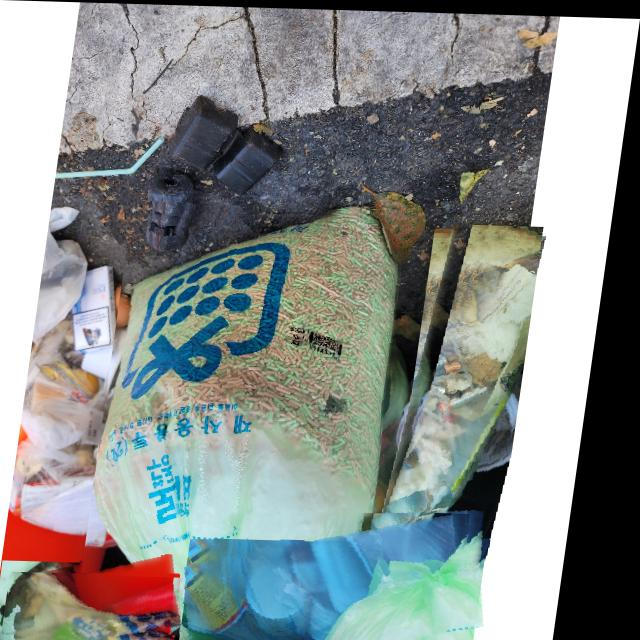general_trashbag: (109, 210, 405, 633), (390, 223, 548, 545), (23, 572, 199, 640)
other_trashbag: (200, 510, 484, 640)
